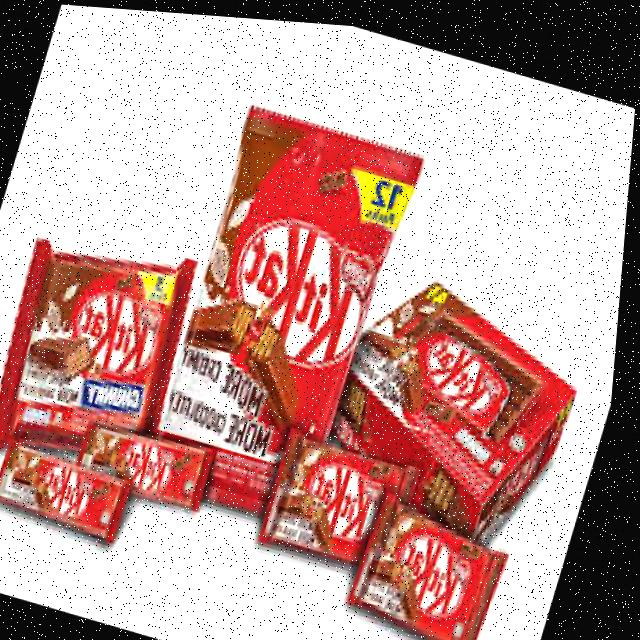kitkat: (155, 102, 428, 497), (0, 223, 199, 476), (348, 491, 525, 640), (264, 417, 431, 564), (76, 404, 230, 510), (0, 428, 138, 538)
